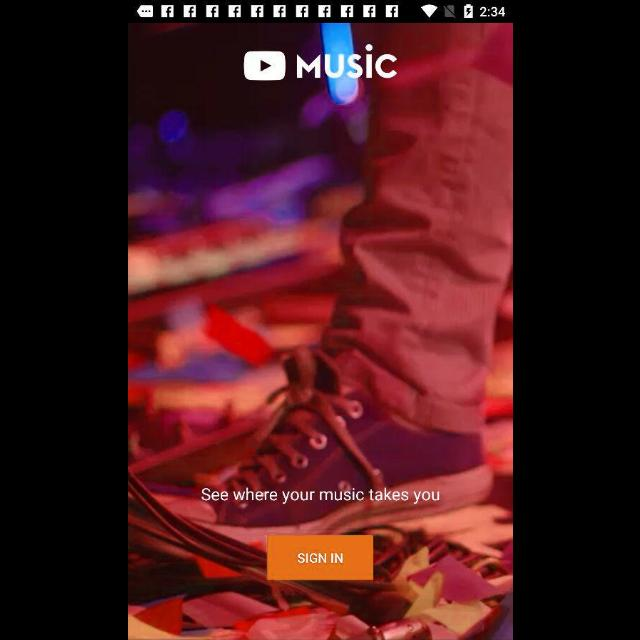backgroundimage: (128, 24, 512, 640)
image: (243, 44, 397, 82)
text: (200, 487, 440, 505)
textbutton: (266, 536, 374, 580)
uppertaskbar: (128, 1, 512, 23)
